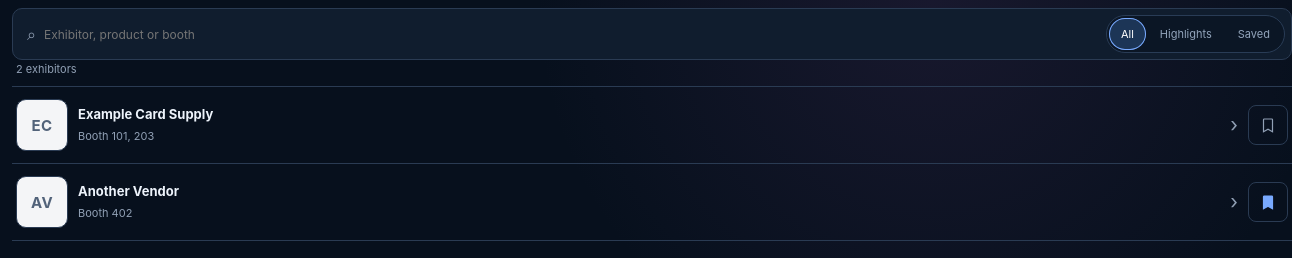
Test: Exhibitor directory › searches names, every booth, and aliases case-insensitively
Type "example" into the search field at (567, 34), box [42,26,1092,42]
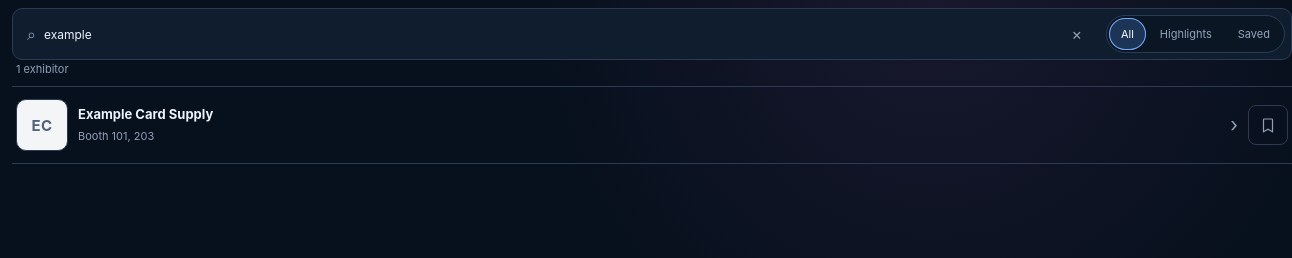
Expected: the text "Example Card Supply" is shown, [78,106,213,122]
Result: the button "Another Vendor" is gone
Replace the text in the search field with "203" at (549, 34), box [42,26,1056,42]
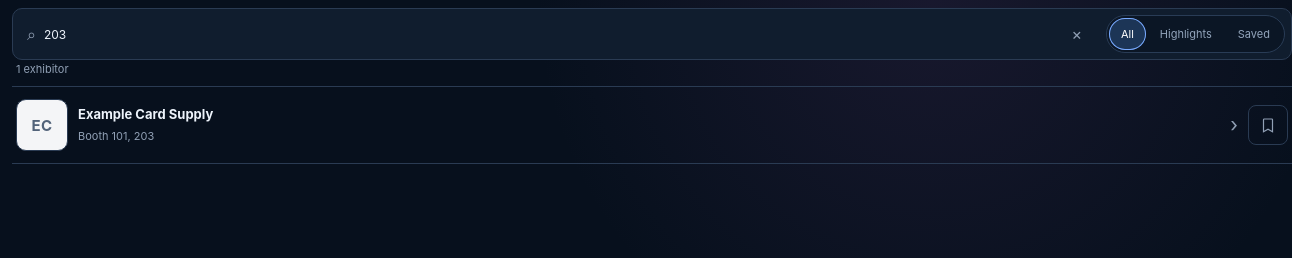
Expected: the text "Example Card Supply" is shown, [78,106,213,122]
Expected: the button "Another Vendor" is not shown
Replace the text in the search field with "ecs" at (549, 34), box [42,26,1056,42]
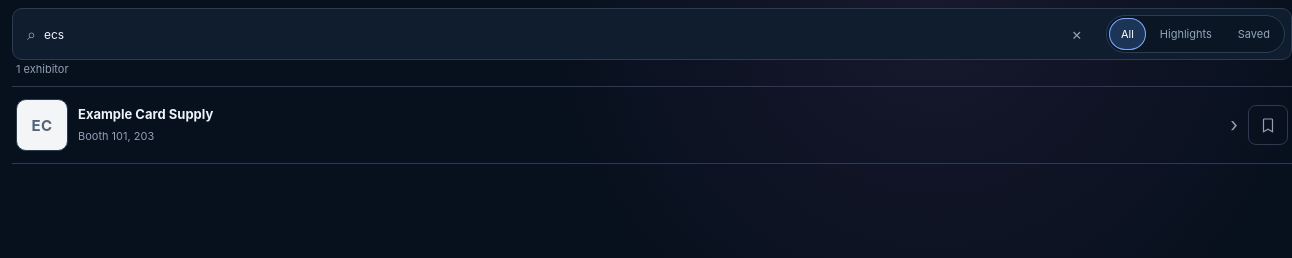
Expected: the text "Example Card Supply" is shown, [78,106,213,122]
Expected: the button "Another Vendor" is not shown
Replace the text in the search field with "ECS 101" at (549, 34), box [42,26,1056,42]
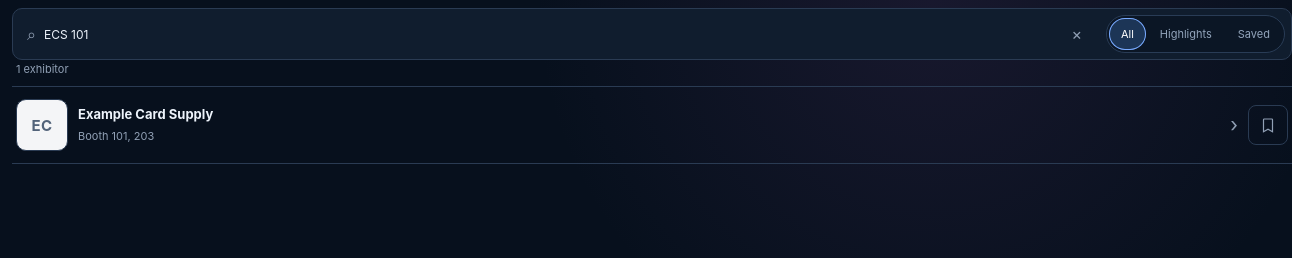
Expected: the text "Example Card Supply" is shown, [78,106,213,122]
Expected: the button "Another Vendor" is not shown
Click the button named "Clear exhibitor search" at (1077, 34), box [1062,17,1092,51]
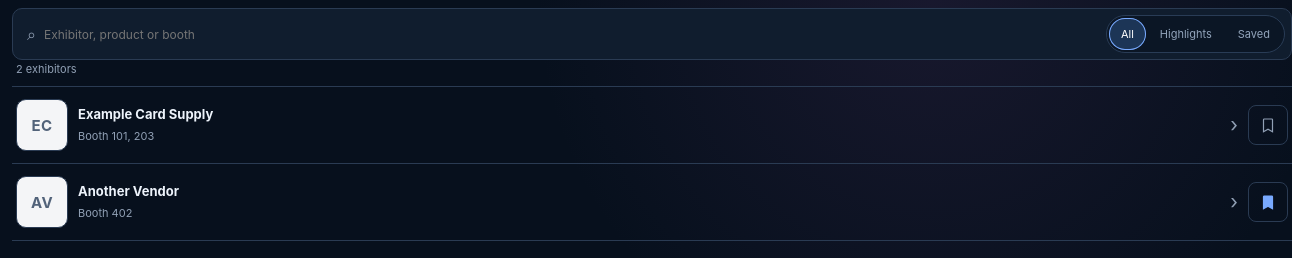
Result: the text "Another Vendor" is shown at [78,183,179,199]
